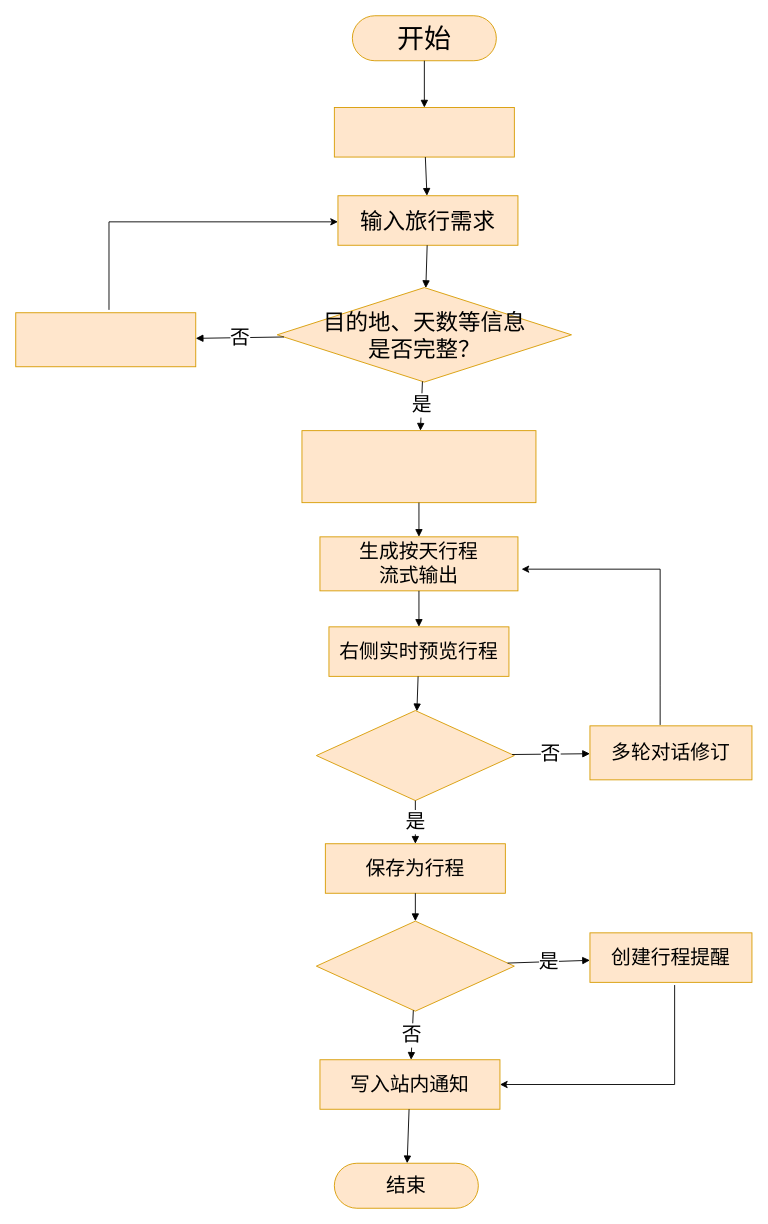
Some shapes in this 768 by 1224 pixel diagram are drawn without their labels. The shapes that lost their labels are listed below. From the top down, each one's box as (x1, y1, x2, y2) in pixels, then its label:
(333, 107, 514, 157): 登录 / 注册账号
(15, 312, 196, 367): 智能体反问补全信息
(301, 430, 536, 503): 检索知识库并调用 天气 / 景点 / 路线 / 预算工具
(315, 710, 514, 801): 用户是否满意？
(315, 920, 514, 1011): 是否填写 出发日期？
